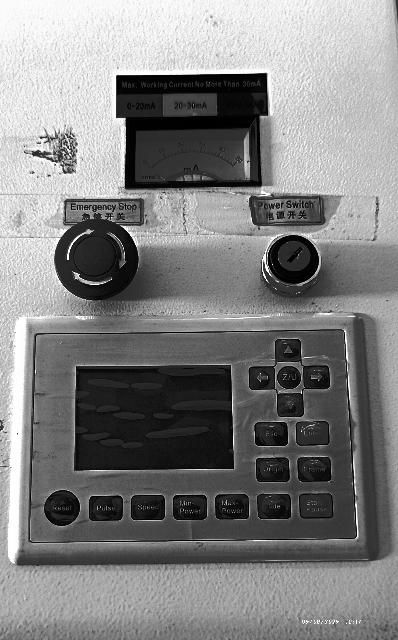Amp_Meter: (133, 118, 256, 183)
Display: (75, 366, 233, 469)
Down_button: (278, 394, 303, 417)
Emergency_Stop: (55, 219, 138, 299)
Enter_button: (297, 422, 329, 445)
Esc_button: (255, 423, 287, 446)
File_button: (258, 494, 291, 519)
Frame_button: (298, 457, 331, 481)
Left_button: (249, 367, 274, 389)
Max-Power_button: (216, 495, 248, 519)
Min-Power_button: (173, 495, 206, 519)
Origin_button: (257, 458, 289, 482)
Power_switch: (262, 235, 321, 296)
Pulse_button: (89, 496, 122, 520)
Reset_button: (45, 491, 79, 525)
Right_button: (304, 366, 330, 389)
Speed_button: (131, 496, 164, 519)
Start-Pause_button: (300, 494, 333, 519)
Up_button: (276, 339, 301, 362)
Z_U_button: (278, 366, 301, 389)
